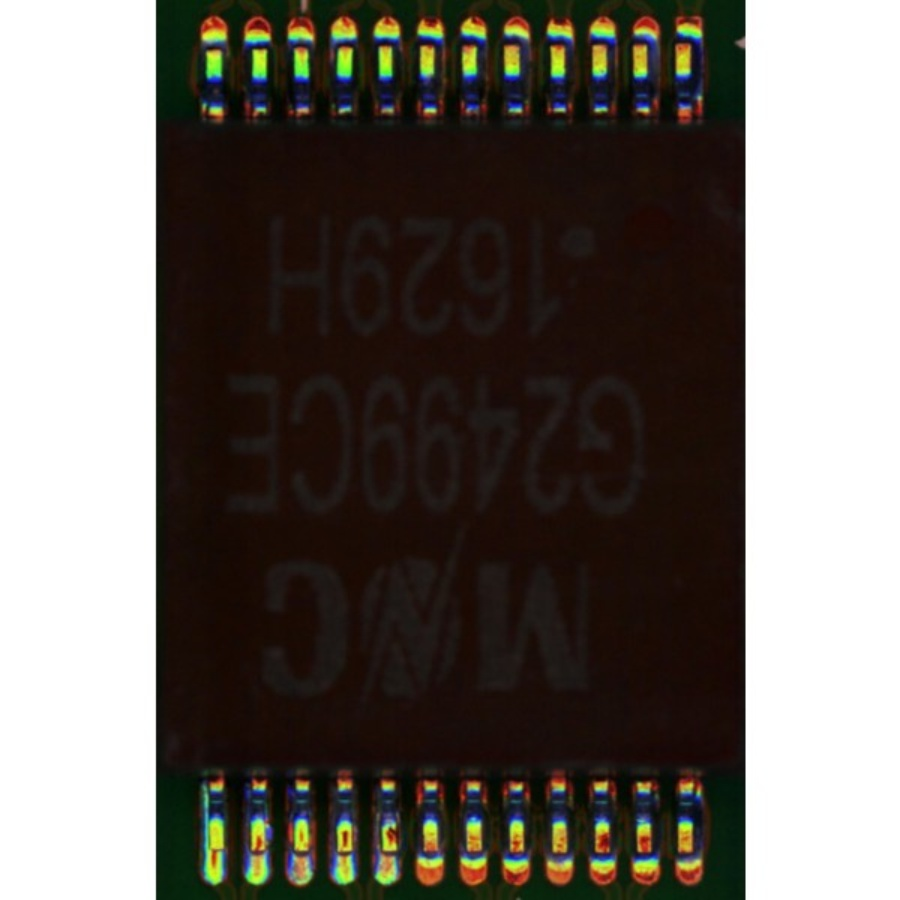Bad_podu: (292, 844, 310, 863), (380, 844, 397, 863), (336, 844, 352, 863), (207, 842, 219, 865), (251, 846, 264, 861)
Bad_qiaojiao: (199, 782, 209, 850), (371, 809, 382, 851)
